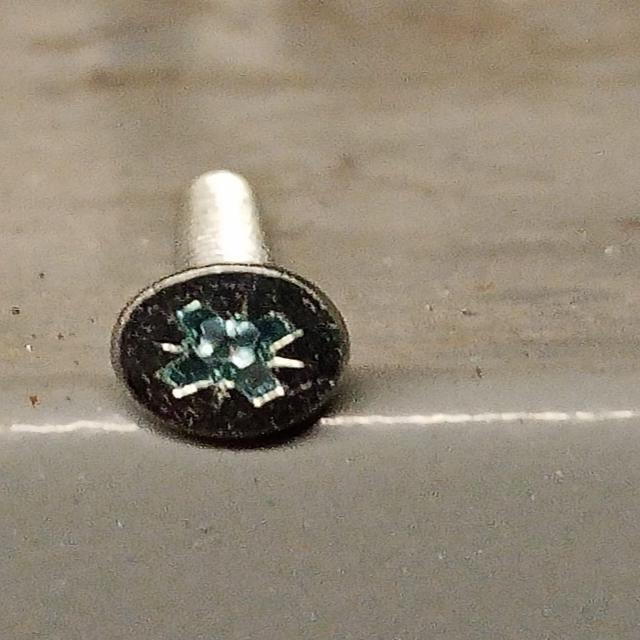pozidriv: (109, 262, 351, 447)
